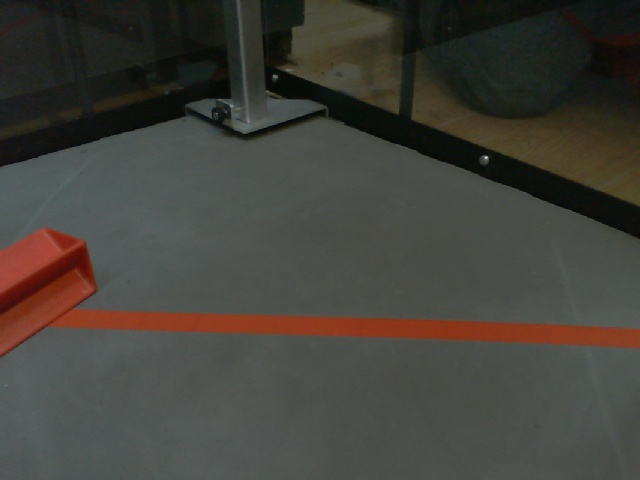RedSample: (1, 226, 99, 360)
